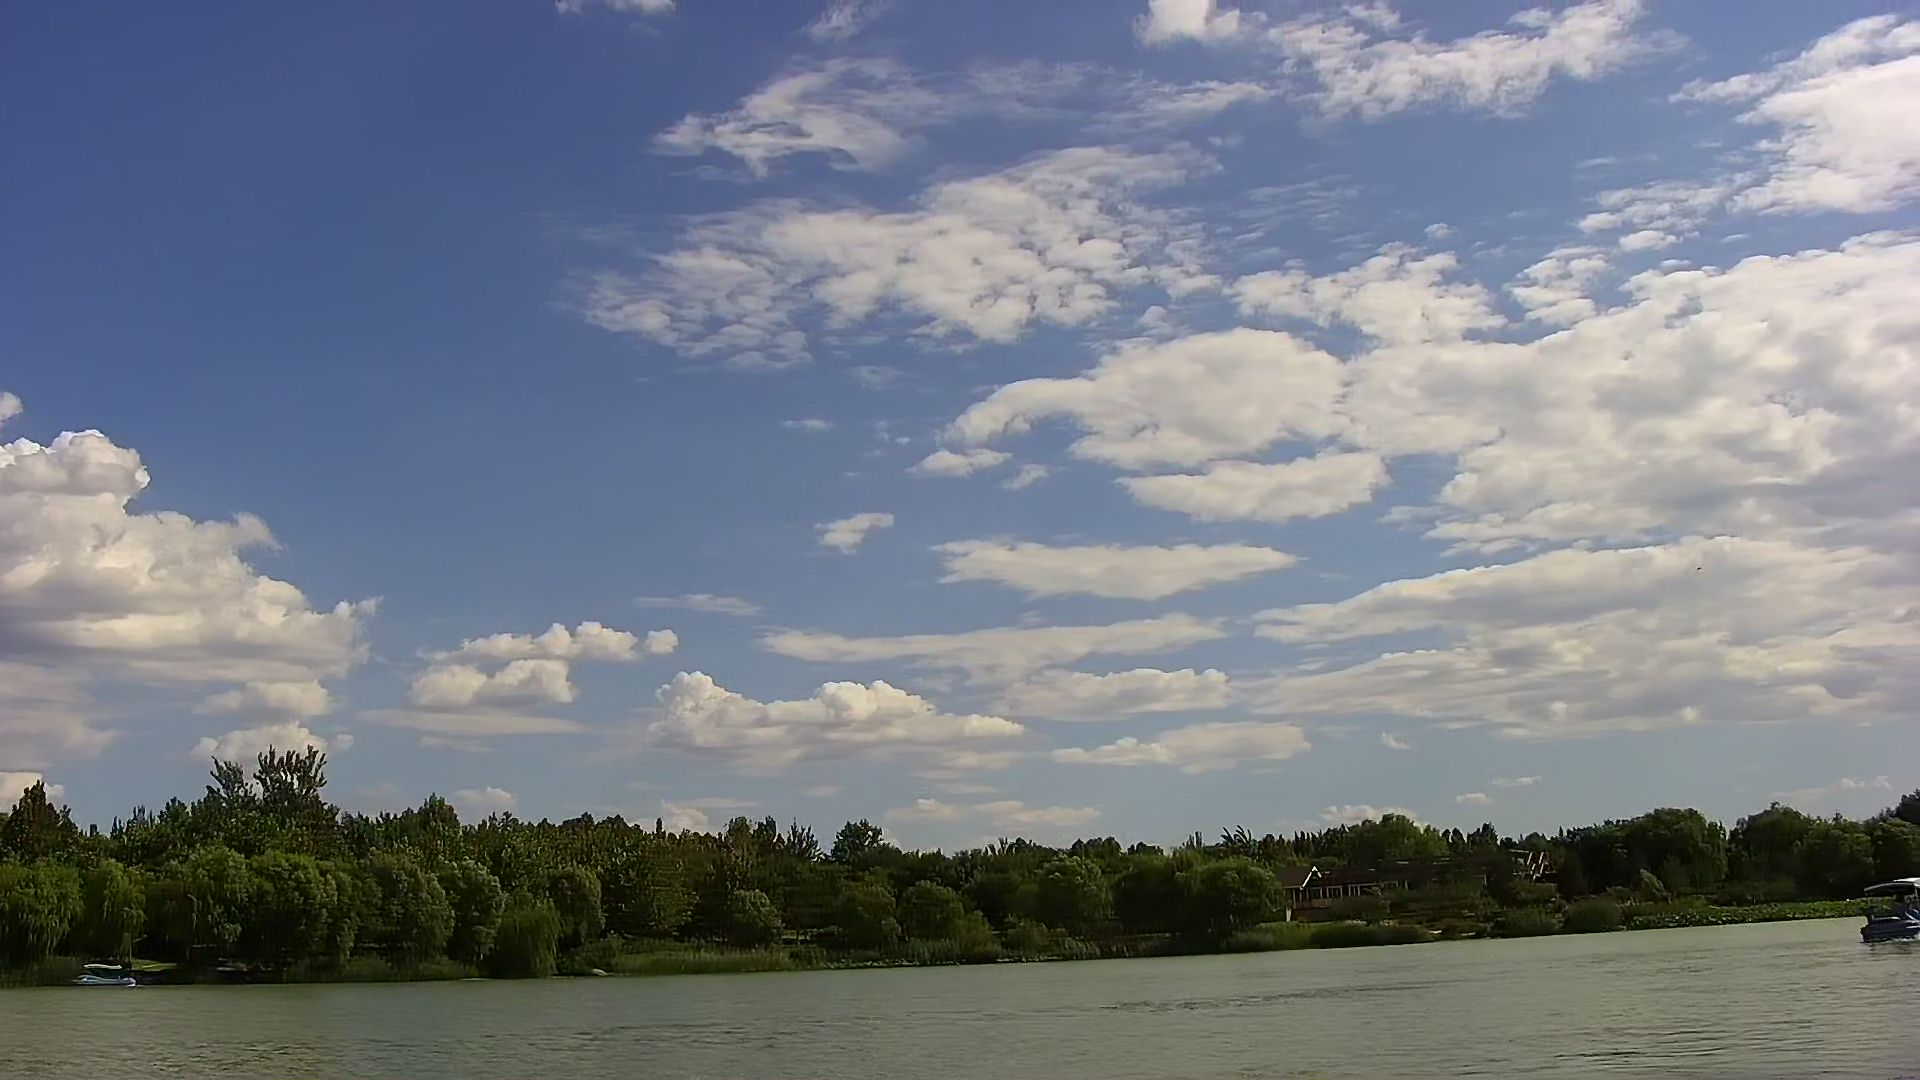boat: (1859, 872, 1919, 948), (70, 960, 133, 986)
